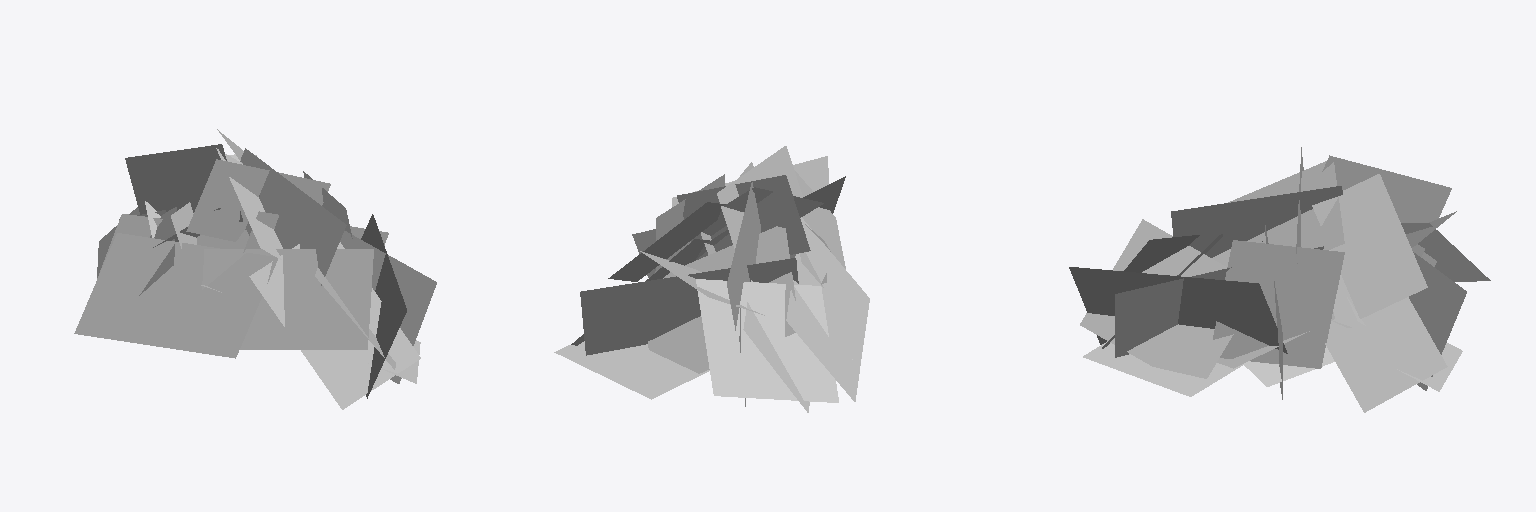
Rendered from MushBig.obj.
3 views of the same model, side by side, from view 1: azimuth 30°, elevation 25°; view 2: azimuth 150°, elevation 25°; view 3: azimuth 270°, elevation 25° (orthographic).
Parts seen in each view (by area): view 1: MushBig_bushbig.006; view 2: MushBig_bushbig.006; view 3: MushBig_bushbig.006.
Part boxes in pixels (x1,y1,x2,y2): MushBig_bushbig.006: (74, 129, 436, 409); MushBig_bushbig.006: (554, 146, 869, 412); MushBig_bushbig.006: (1069, 147, 1490, 412).
Size of the model in its own units: 1.72 by 1.17 by 2.34.